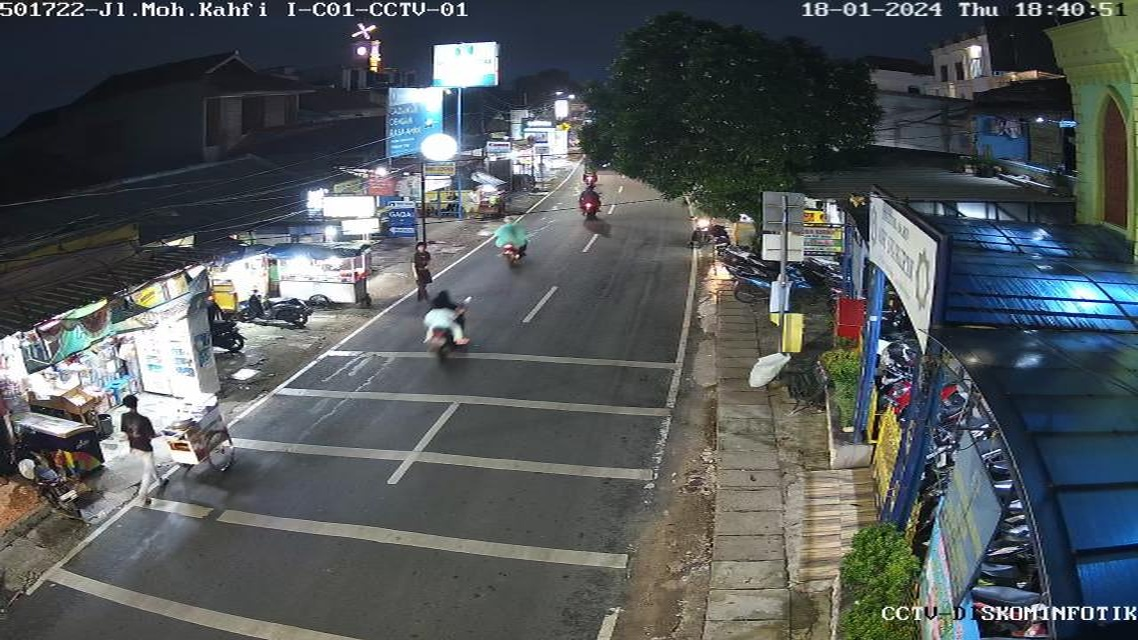Gerobak: (107, 396, 261, 492), (265, 246, 368, 318), (209, 254, 273, 313), (466, 171, 507, 220)
